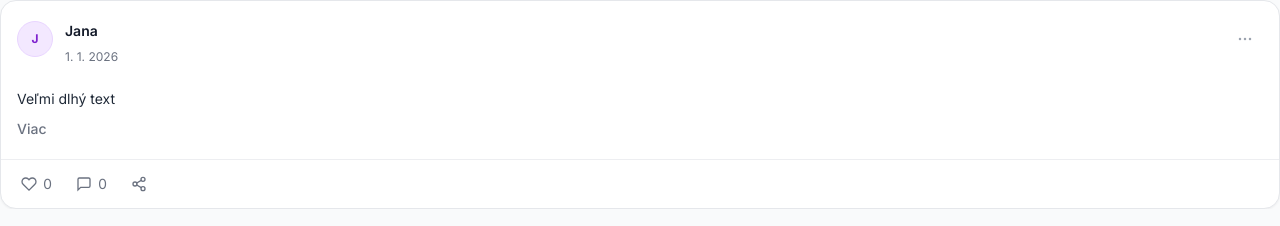
Test case: skrátenie na tri riadky › keeps the toggle after expanding, even though nothing overflows then
Click the button with test id "feed-post-caption-toggle" at (32, 129), box x1=17 y1=111 x2=46 y2=147
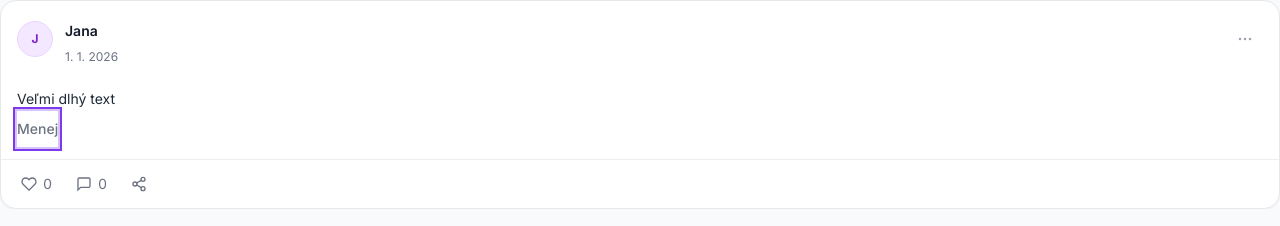
Expected: the button with test id "feed-post-caption-toggle" reads "Menej", x1=17 y1=111 x2=58 y2=147
